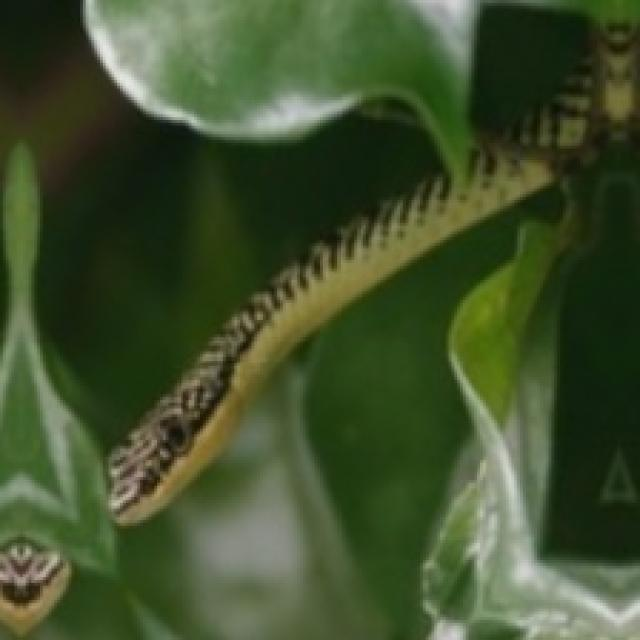paradise tree snake: (0, 0, 637, 637), (103, 183, 546, 529)
